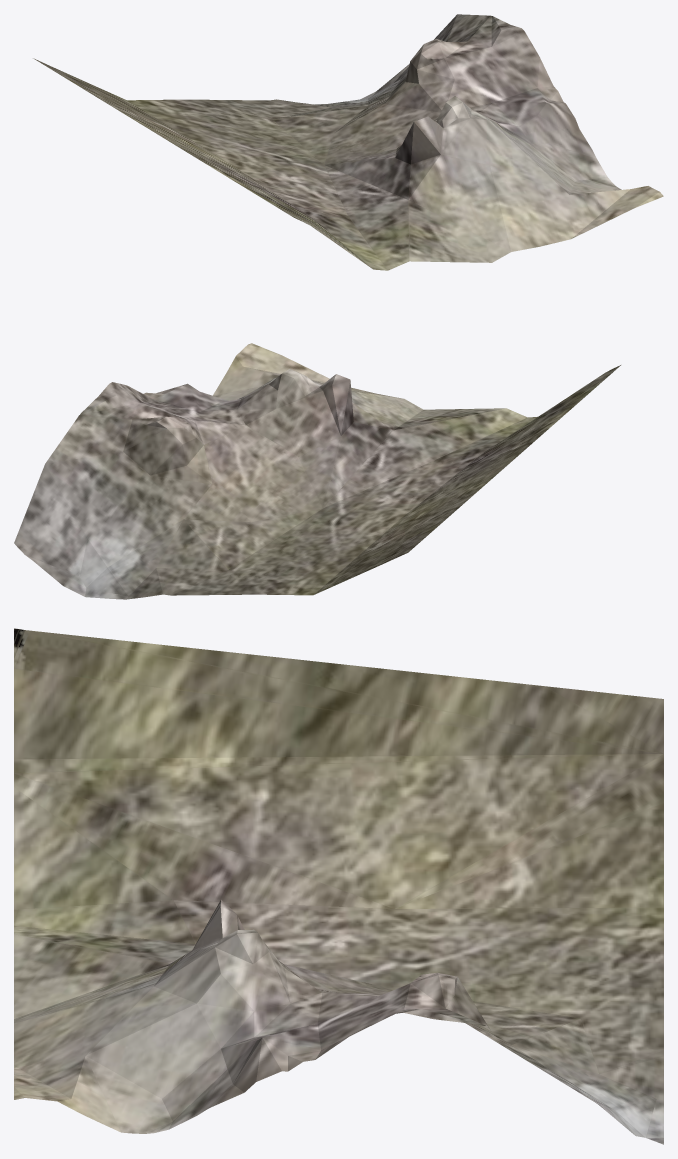
The picture shows the model from 3 angles, top to bottom: view 1: azimuth 30°, elevation 25°; view 2: azimuth 150°, elevation 25°; view 3: azimuth 270°, elevation 25°; orthographic projection. The views are drawn at different scales.
Size of the model in its own units: 5.9 by 2.83 by 5.9.
3 materials, 3 textured.
